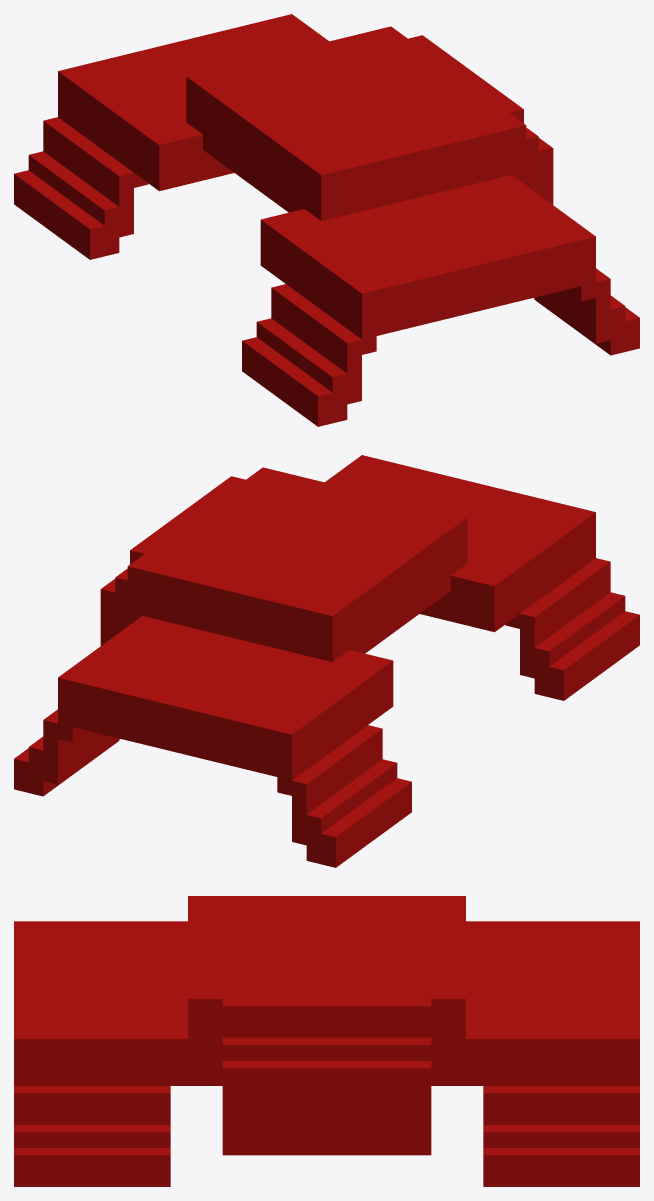
The model's file is quad_bike_front_fenders.glb.
3 renders of one model, top to bottom at view 1: azimuth 30°, elevation 25°; view 2: azimuth 150°, elevation 25°; view 3: azimuth 270°, elevation 25°, orthographic. The views are drawn at different scales.
Visible parts, largest first — view 1: body:compound; view 2: body:compound; view 3: body:compound.
Part boxes in pixels (x1=…): body:compound: x1=14, y1=14, x2=639, y2=426; body:compound: x1=14, y1=455, x2=639, y2=867; body:compound: x1=14, y1=896, x2=639, y2=1186.
Bounding box in the file's own units: 0.7188 × 0.3438 × 1.12.
